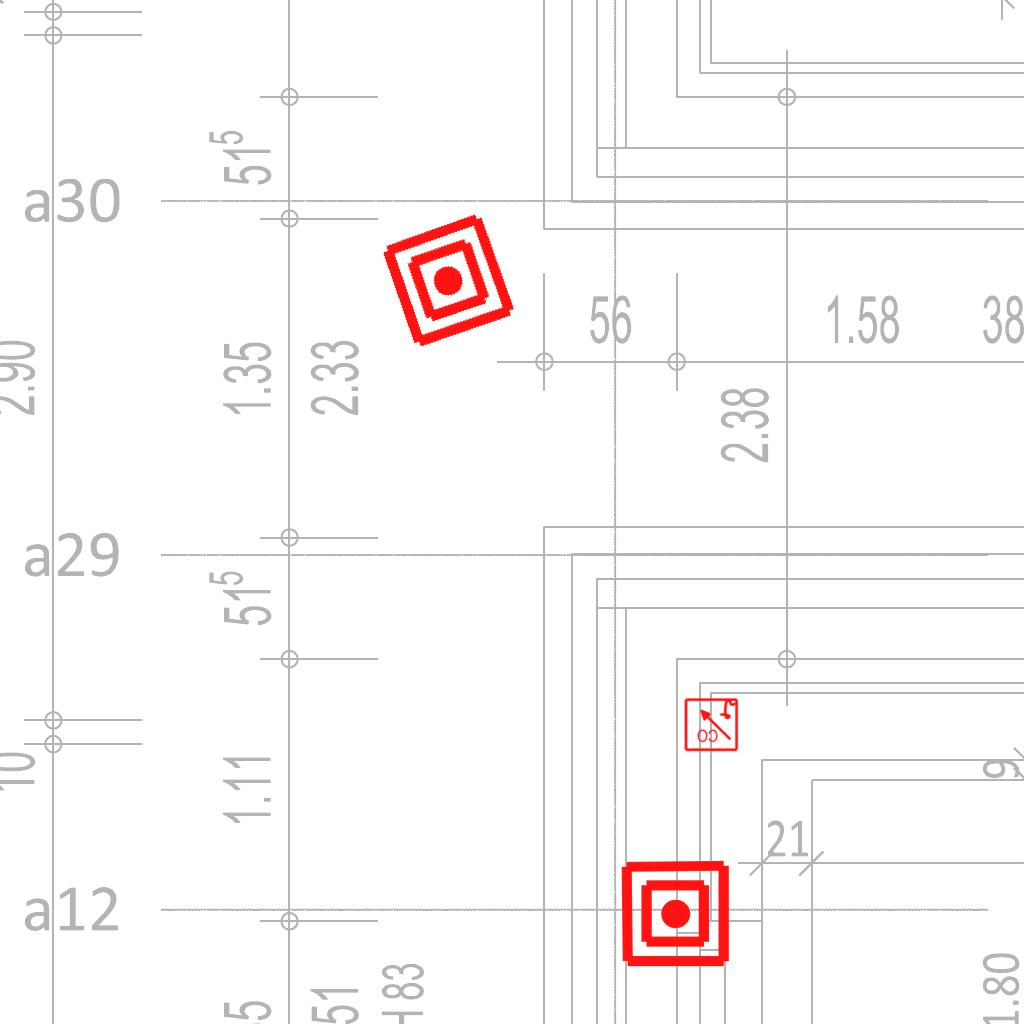NAM-Nichtautomatischer_Melder: (376, 208, 521, 353), (619, 857, 732, 970)
ROA_Rauchmelder_optisch_mit_Signalgeber_(Sockelsirene): (683, 696, 739, 752)
